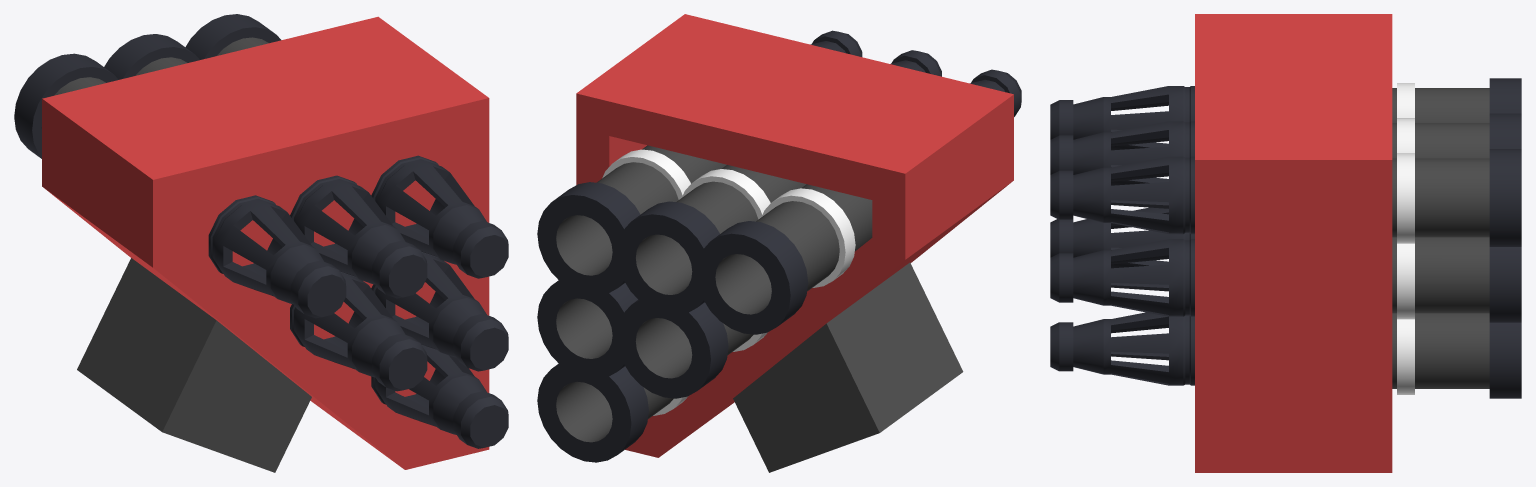
File: Pico_SideMissileLauncher.glb
3 renders of one model, left to right at view 1: azimuth 30°, elevation 25°; view 2: azimuth 150°, elevation 25°; view 3: azimuth 270°, elevation 25°, orthographic. The views are drawn at different scales.
Parts seen in each view (by area): view 1: mergedBlocks(Clone); view 2: mergedBlocks(Clone); view 3: mergedBlocks(Clone).
Part boxes in pixels (left/top/right/bottom): mergedBlocks(Clone): left=14, top=14, right=508, bottom=472; mergedBlocks(Clone): left=537, top=14, right=1021, bottom=472; mergedBlocks(Clone): left=1050, top=14, right=1521, bottom=472.
Bounding box in the file's own units: 2.27 × 2.27 × 3.1.
1 material, 1 textured.
